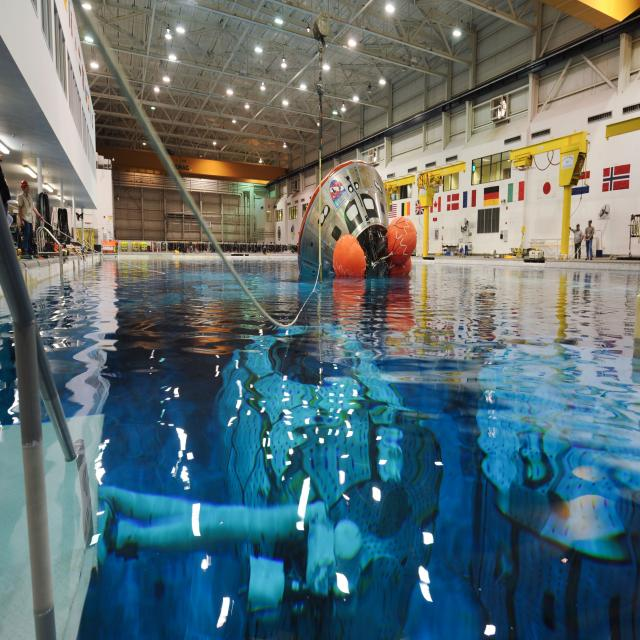Orion_capsule_mockup_(WEST)_located_on_far_end_of_pool: (298, 160, 417, 278)
